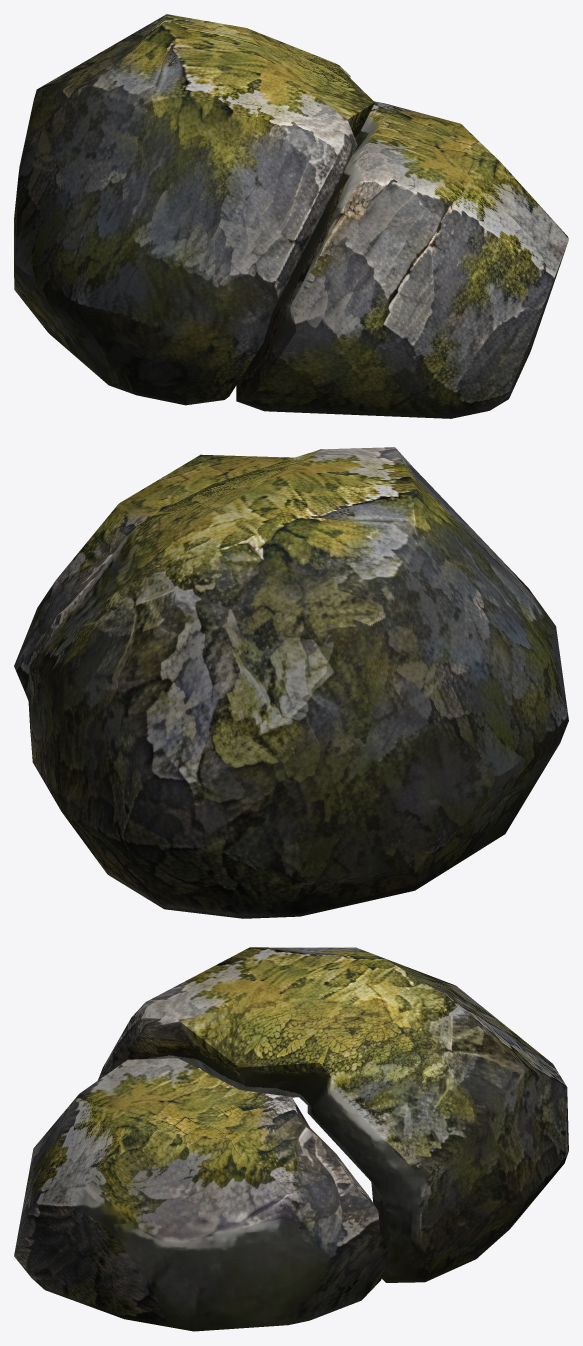
The model's file is act1_kit_v1_moss_rock.glb.
3 views of the same model, one above another, from view 1: azimuth 30°, elevation 25°; view 2: azimuth 150°, elevation 25°; view 3: azimuth 270°, elevation 25° (orthographic). The views are drawn at different scales.
Parts seen in each view (by area): view 1: A03_4_moss_rock; view 2: A03_4_moss_rock; view 3: A03_4_moss_rock.
Part boxes in pixels (x1=…): A03_4_moss_rock: x1=14, y1=14, x2=568, y2=418; A03_4_moss_rock: x1=14, y1=447, x2=568, y2=918; A03_4_moss_rock: x1=14, y1=947, x2=568, y2=1331.
Size of the model in its own units: 0.8442 by 0.5135 by 1.
1 material, 1 textured.
